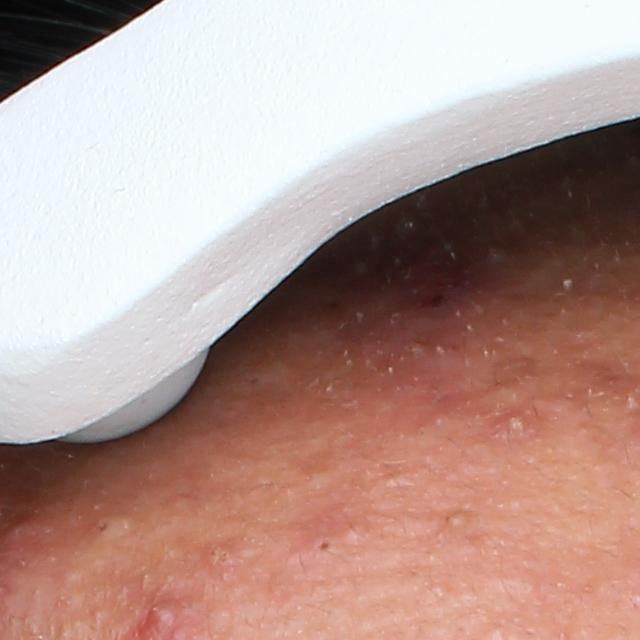comedo: (444, 506, 468, 536), (92, 515, 117, 537), (311, 536, 337, 553)
pustule: (485, 400, 539, 452)
